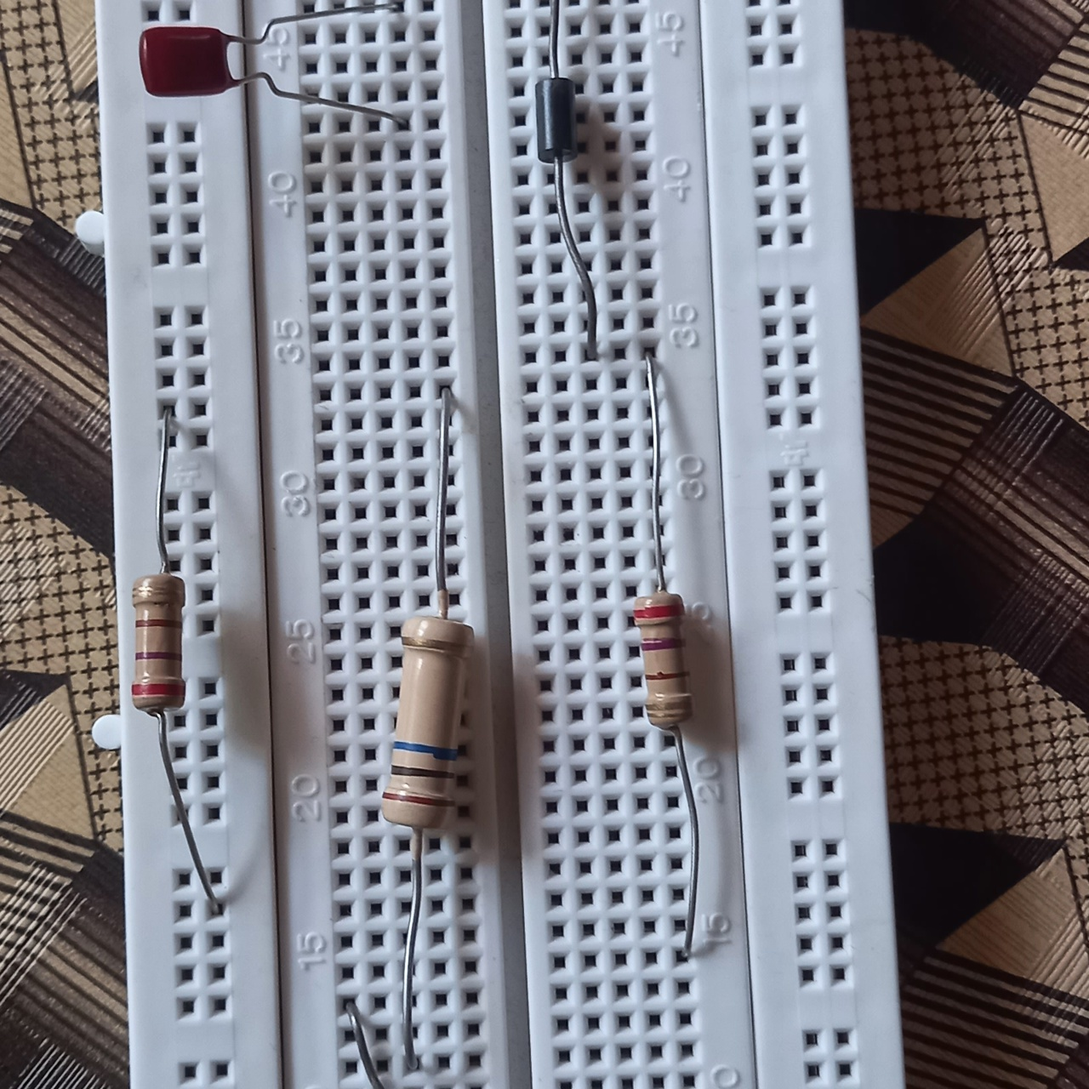capacitor: (139, 20, 233, 99)
resistor: (379, 613, 474, 829), (633, 592, 696, 732), (131, 574, 192, 710)
